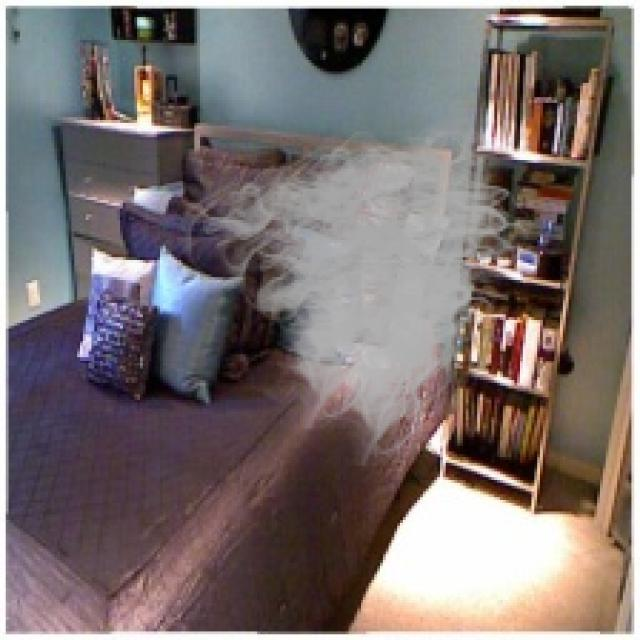smoke: (171, 106, 543, 466)
